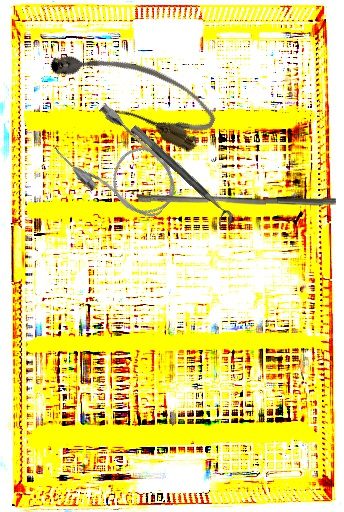Cannula: (42, 26, 224, 157), (49, 97, 191, 236)
Fixation Ring: (122, 123, 237, 233)
Pusher: (137, 190, 337, 209)
